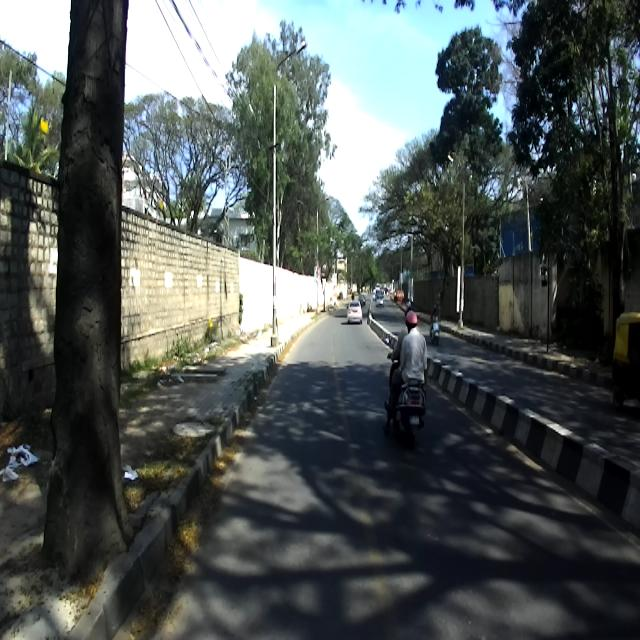electric pole ahead at: (265, 29, 307, 351)
motorcycle ahead at: (385, 377, 431, 440)
tree ahead at: (48, 2, 138, 580)
